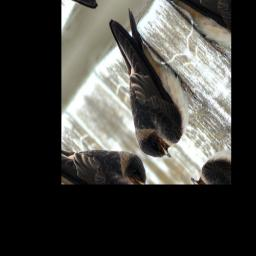Swallow: (69, 1, 216, 173)
